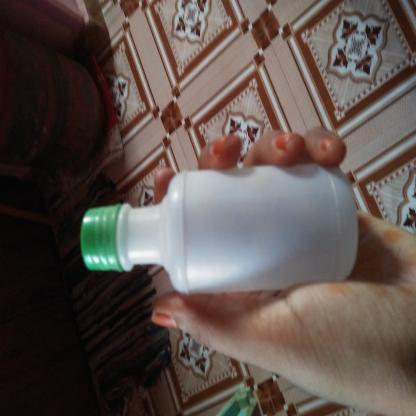bottle: (90, 106, 193, 416)
